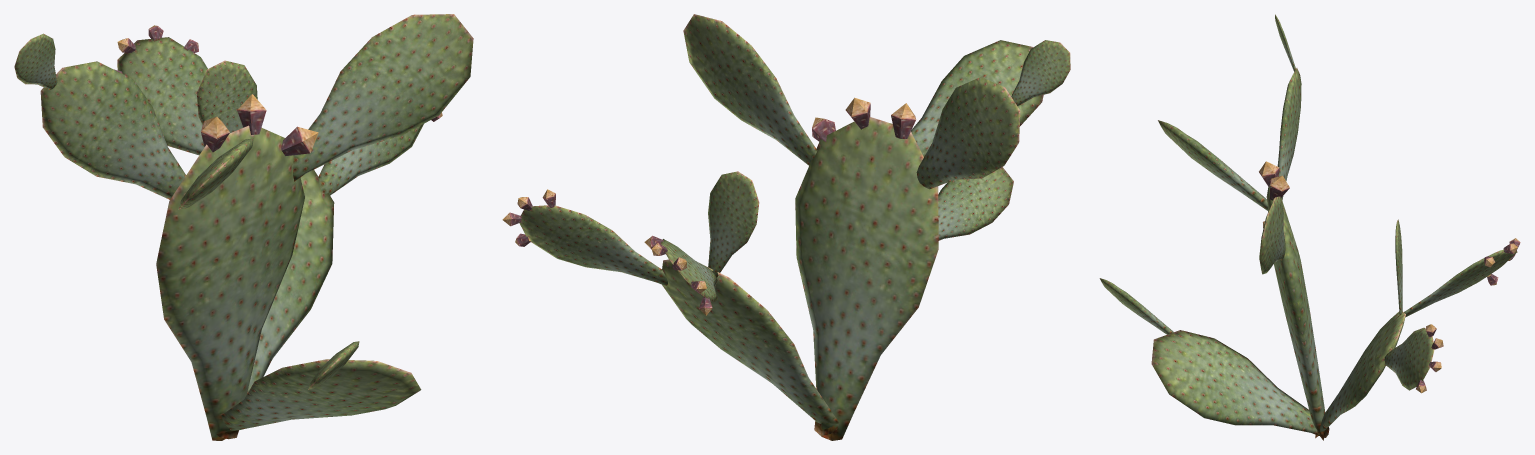
The model's file is CactusA.glb.
3 views of the same model, side by side, from view 1: azimuth 30°, elevation 25°; view 2: azimuth 150°, elevation 25°; view 3: azimuth 270°, elevation 25° (orthographic). The views are drawn at different scales.
Parts seen in each view (by area): view 1: CactusA; view 2: CactusA; view 3: CactusA.
Part boxes in pixels (x1=…): CactusA: x1=14, y1=14, x2=473, y2=440; CactusA: x1=502, y1=14, x2=1070, y2=440; CactusA: x1=1099, y1=14, x2=1520, y2=440.
Size of the model in its own units: 1.92 by 1.67 by 1.85.
2 materials, 2 textured.
